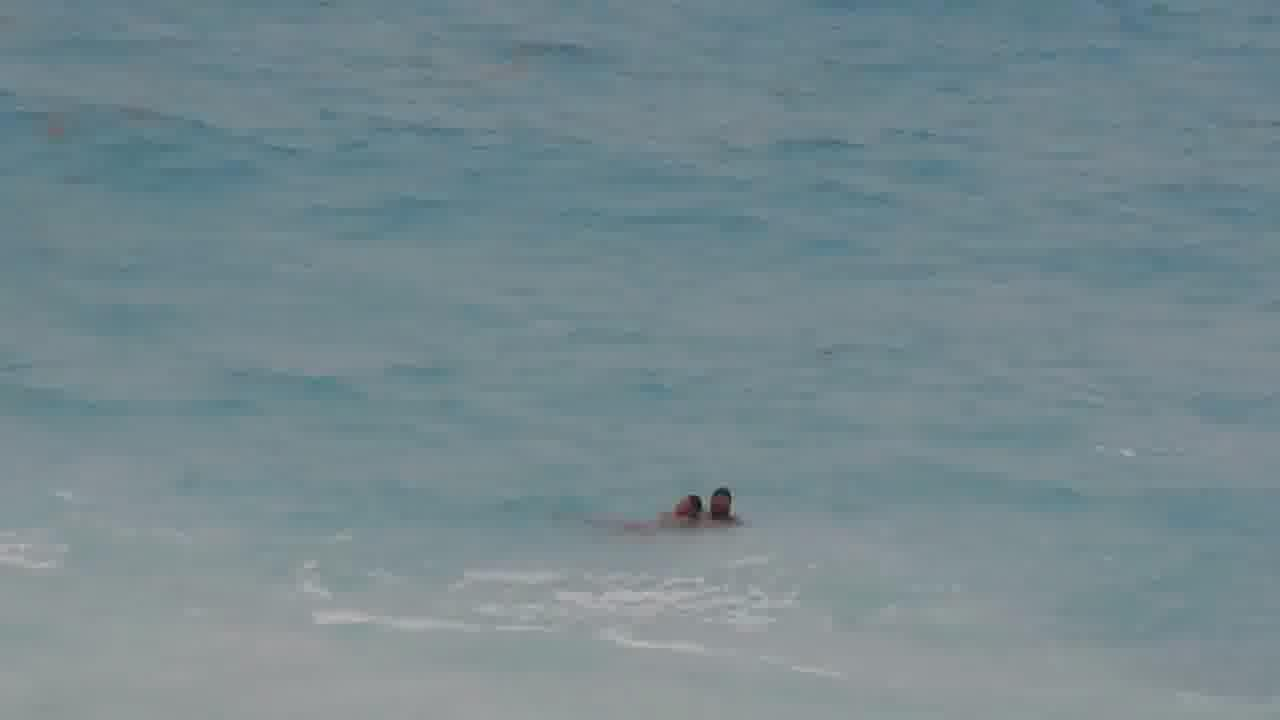swimmer: (706, 462, 745, 539), (659, 481, 701, 538)
